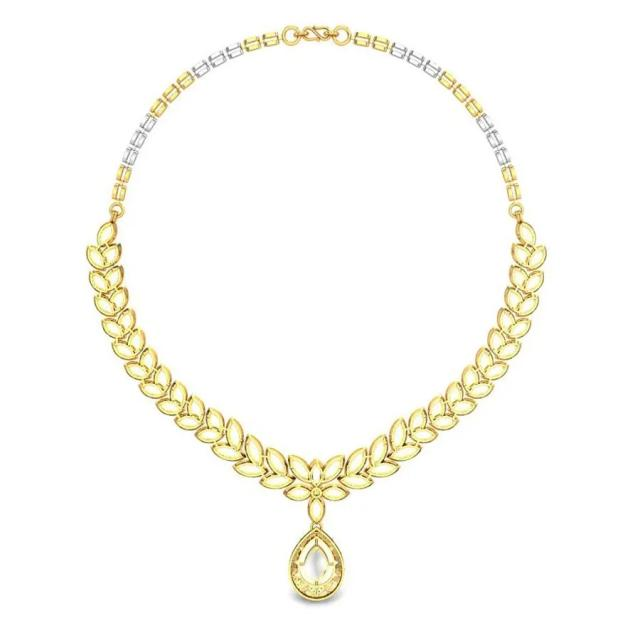missing gem: (306, 548, 327, 580)
